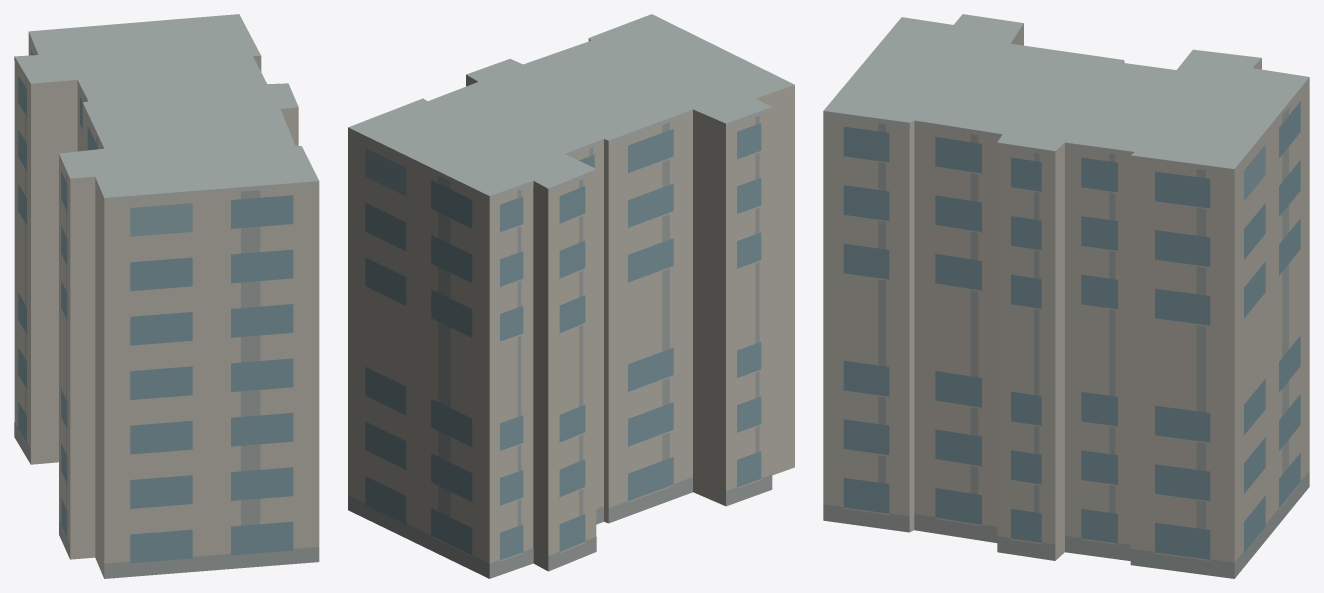
File: survey-upis-32703330.glb
The picture shows the model from 3 angles, left to right: view 1: azimuth 30°, elevation 25°; view 2: azimuth 150°, elevation 25°; view 3: azimuth 270°, elevation 25°; orthographic projection. The views are drawn at different scales.
Visible parts, largest first — view 1: survey-upis-32703330.tmp; view 2: survey-upis-32703330.tmp; view 3: survey-upis-32703330.tmp.
Boxes of the visible parts, left/top/right/bottom form: survey-upis-32703330.tmp: left=14, top=14, right=319, bottom=578; survey-upis-32703330.tmp: left=348, top=14, right=794, bottom=578; survey-upis-32703330.tmp: left=823, top=14, right=1309, bottom=578.
Size of the model in its own units: 16.74 by 20.6 by 22.17.
